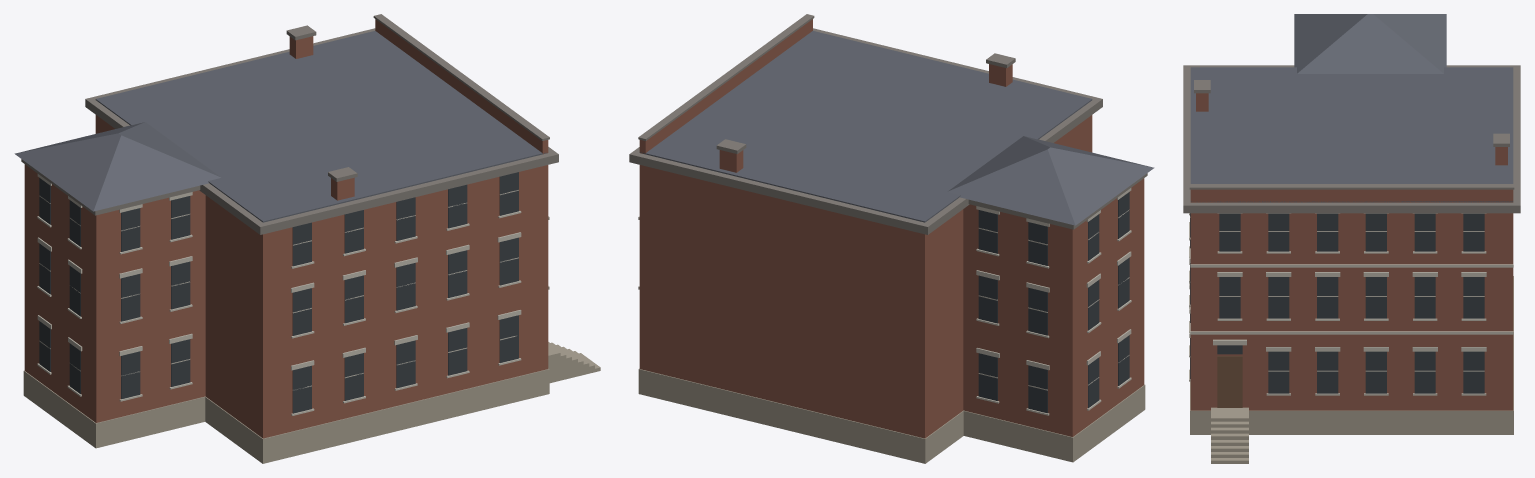
Rendered from house_1641_indiana__draft_1904.glb.
The picture shows the model from 3 angles, left to right: view 1: azimuth 30°, elevation 25°; view 2: azimuth 150°, elevation 25°; view 3: azimuth 270°, elevation 25°; orthographic projection. The views are drawn at different scales.
Parts seen in each view (by area): view 1: house_1641_indiana__draft_1904; view 2: house_1641_indiana__draft_1904; view 3: house_1641_indiana__draft_1904.
Boxes of the visible parts, bbox=[...] form: house_1641_indiana__draft_1904: bbox=[14, 14, 600, 463]; house_1641_indiana__draft_1904: bbox=[629, 14, 1154, 463]; house_1641_indiana__draft_1904: bbox=[1183, 14, 1520, 463].
Bounding box in the file's own units: 24.4 × 13.72 × 15.95.
